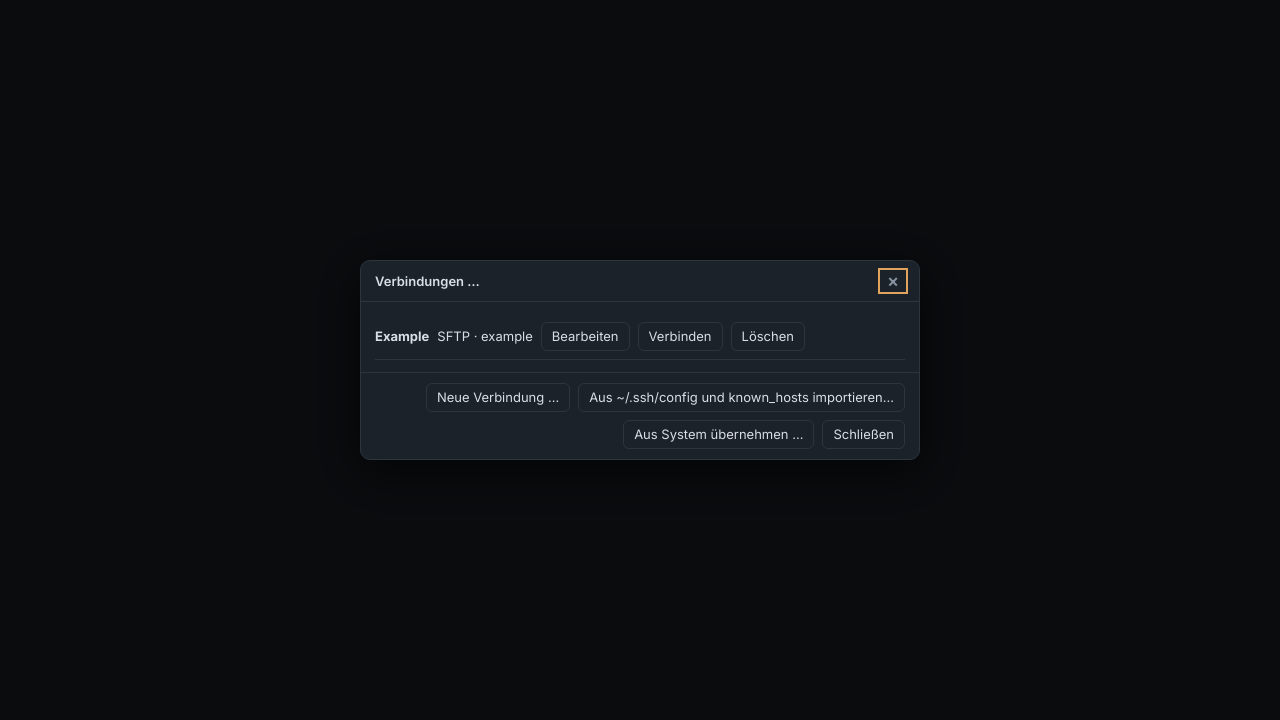
Test: connection failure belongs to its profile, includes target and clears on editing
Click the button "Verbinden": (680,337) [638,322,722,351]
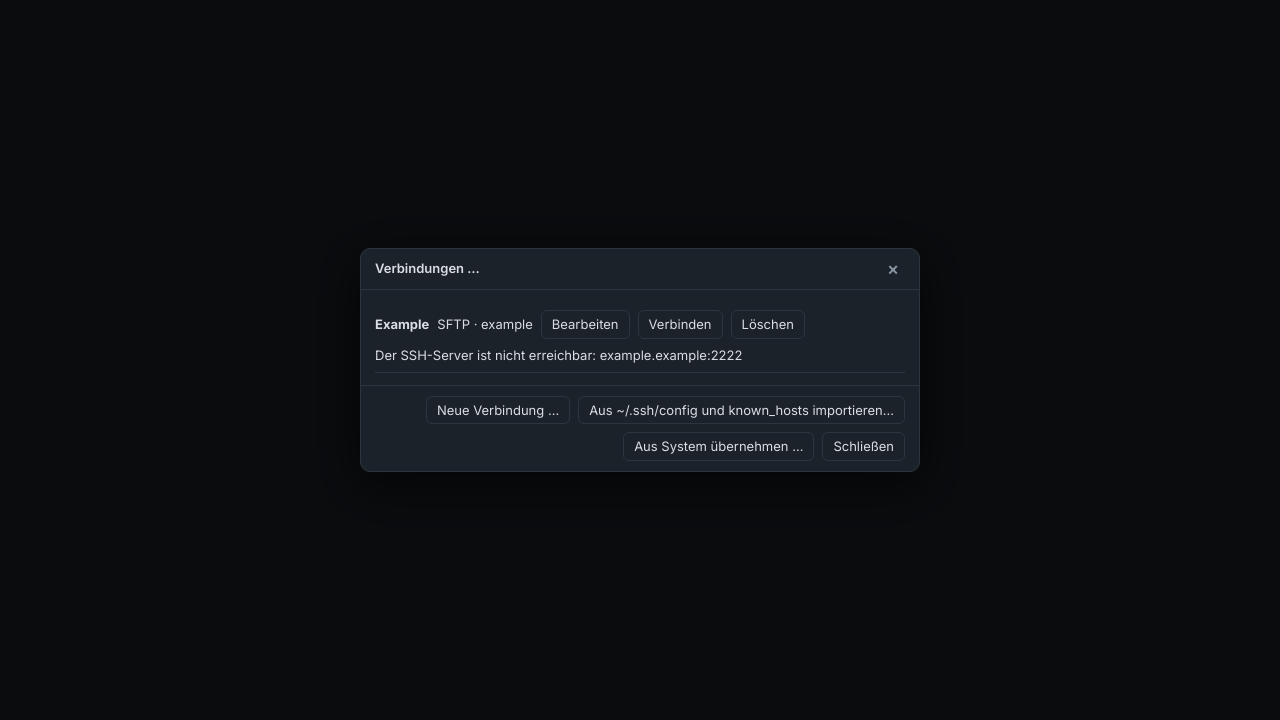
Expected: the message does not show "hidden", [375,347,742,363]
Expected: the message shows "example.example:2222", [375,347,742,363]
Click the button "Bearbeiten": (585,324) [541,310,630,339]
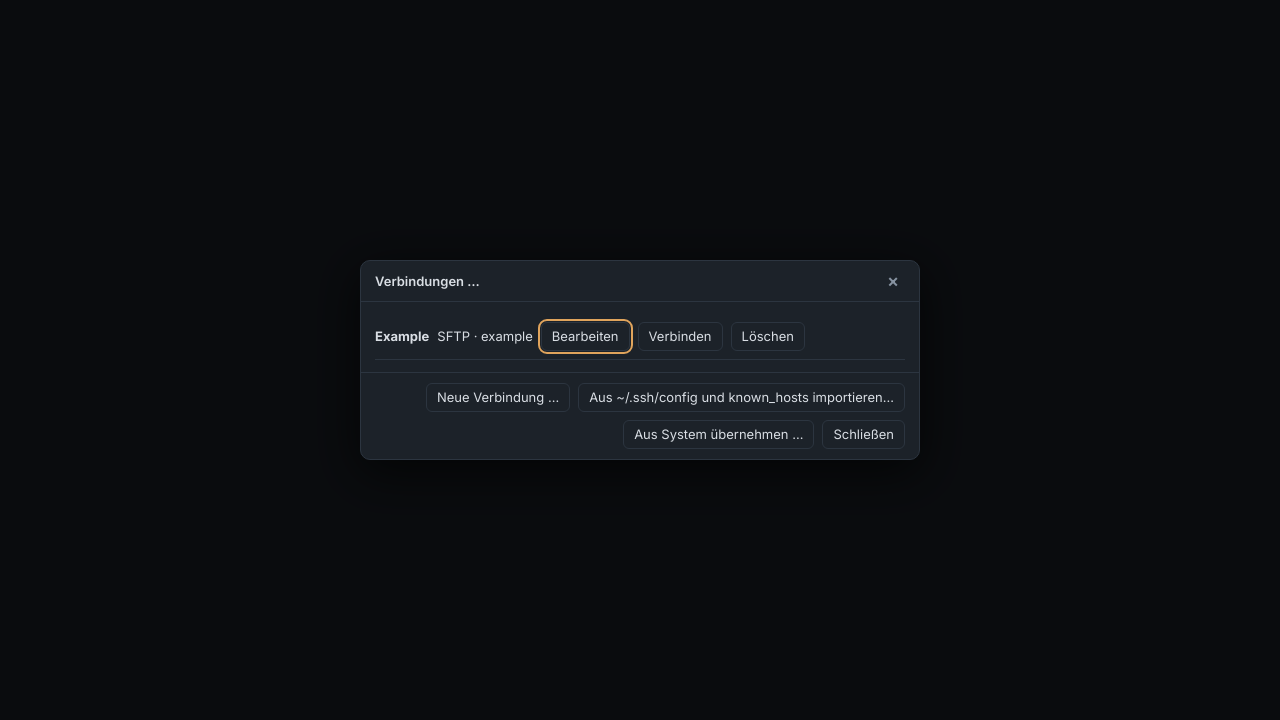
Expected: the message "Der SSH-Server ist nicht erreichbar: example.example:2222" is gone
